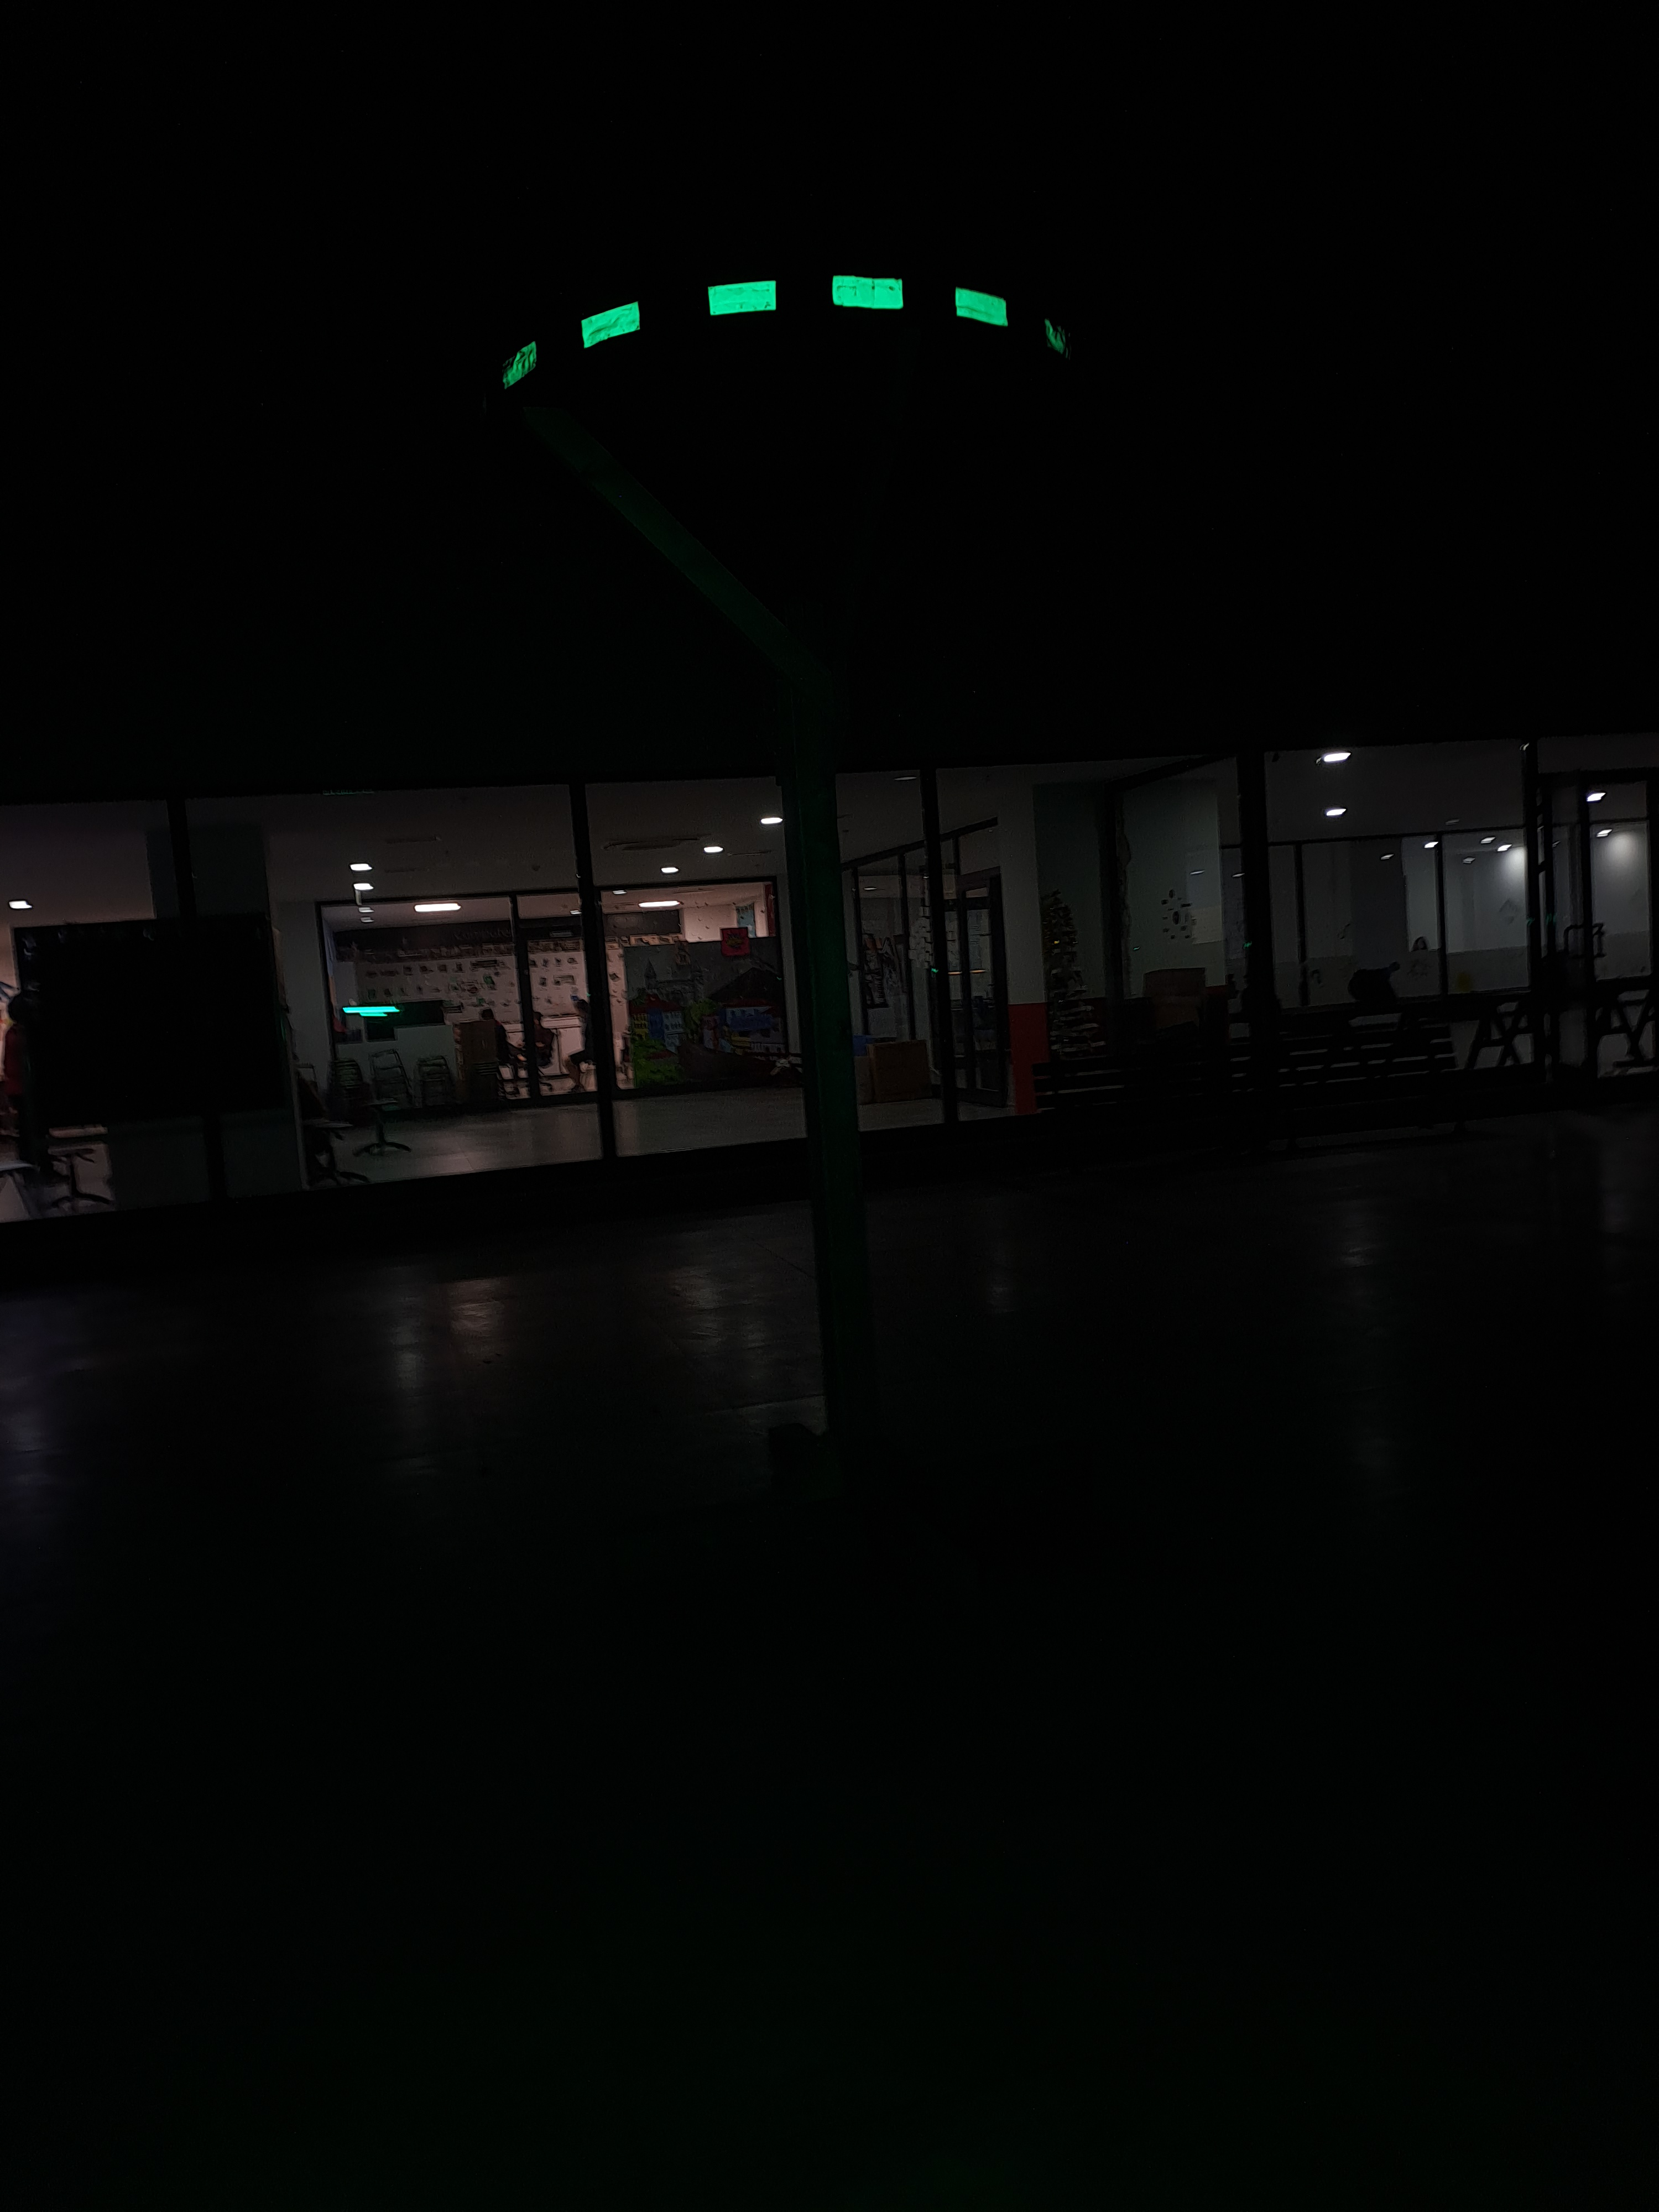hoop: (497, 268, 1075, 390)
